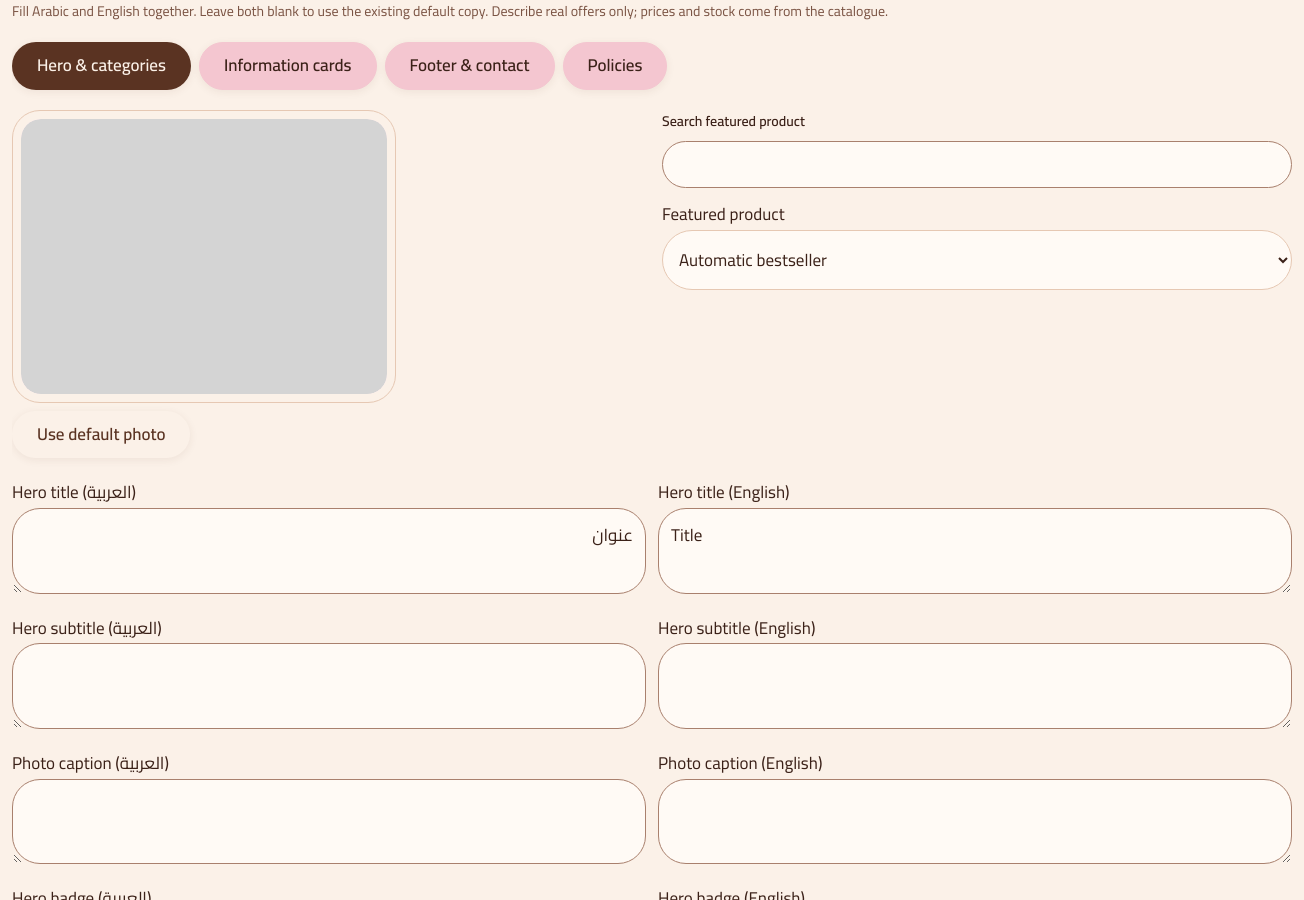
Test case: content editor › allows editing all 5 policy routes in both languages and publishing (T-5.15)
Expected: the text box labelled "Hero title (English)" is shown, [658, 508, 1292, 594]
# Switch to Policies tab
Click the button "Policies" at {"x": 615, "y": 66}, box [563, 42, 667, 90]
(page scrolled)
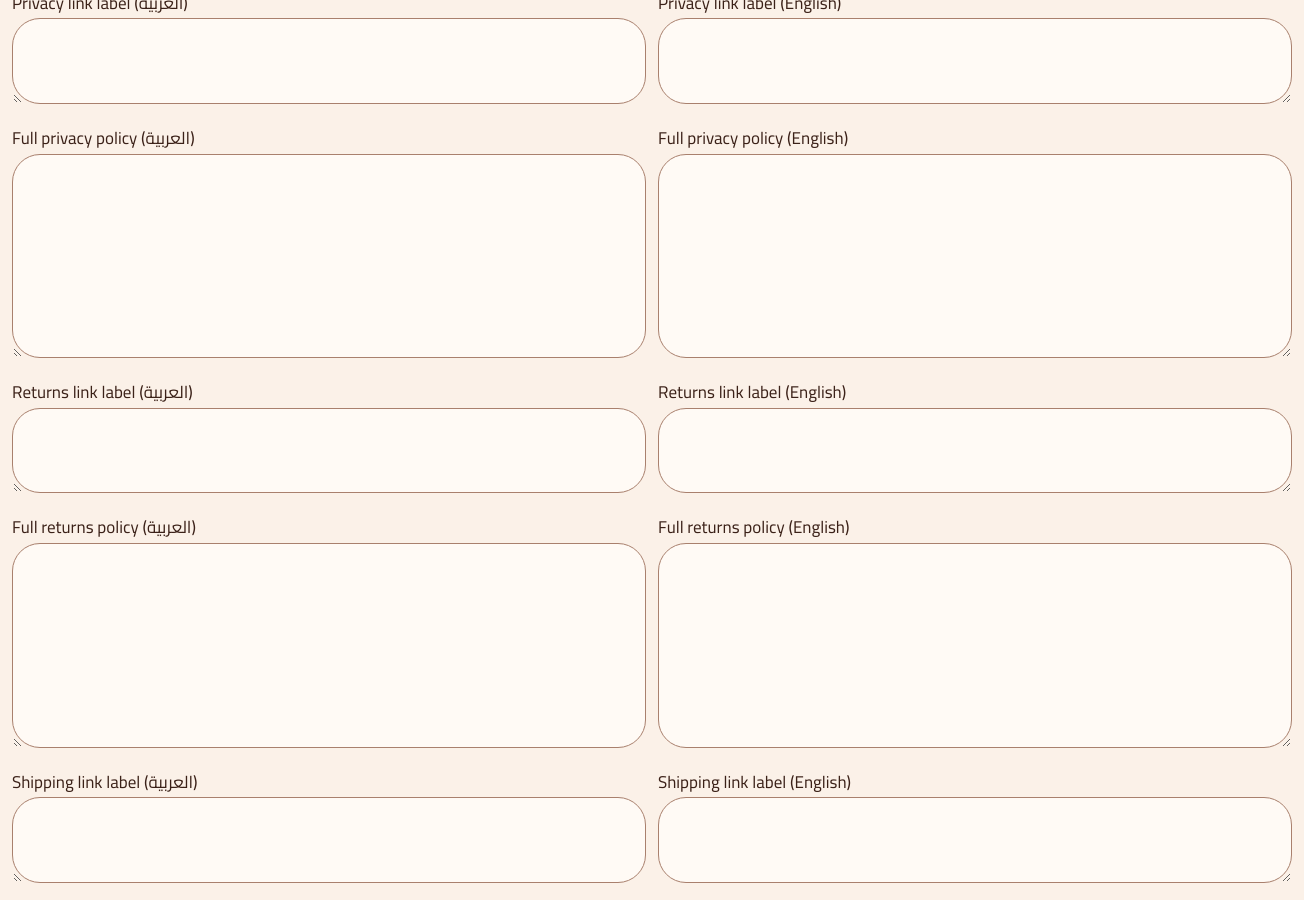
# Fill in returns policy
Type "ضوابط الاسترجاع" into the text box labelled "Returns link label (العربية)" at {"x": 329, "y": 451}, box [12, 408, 646, 493]
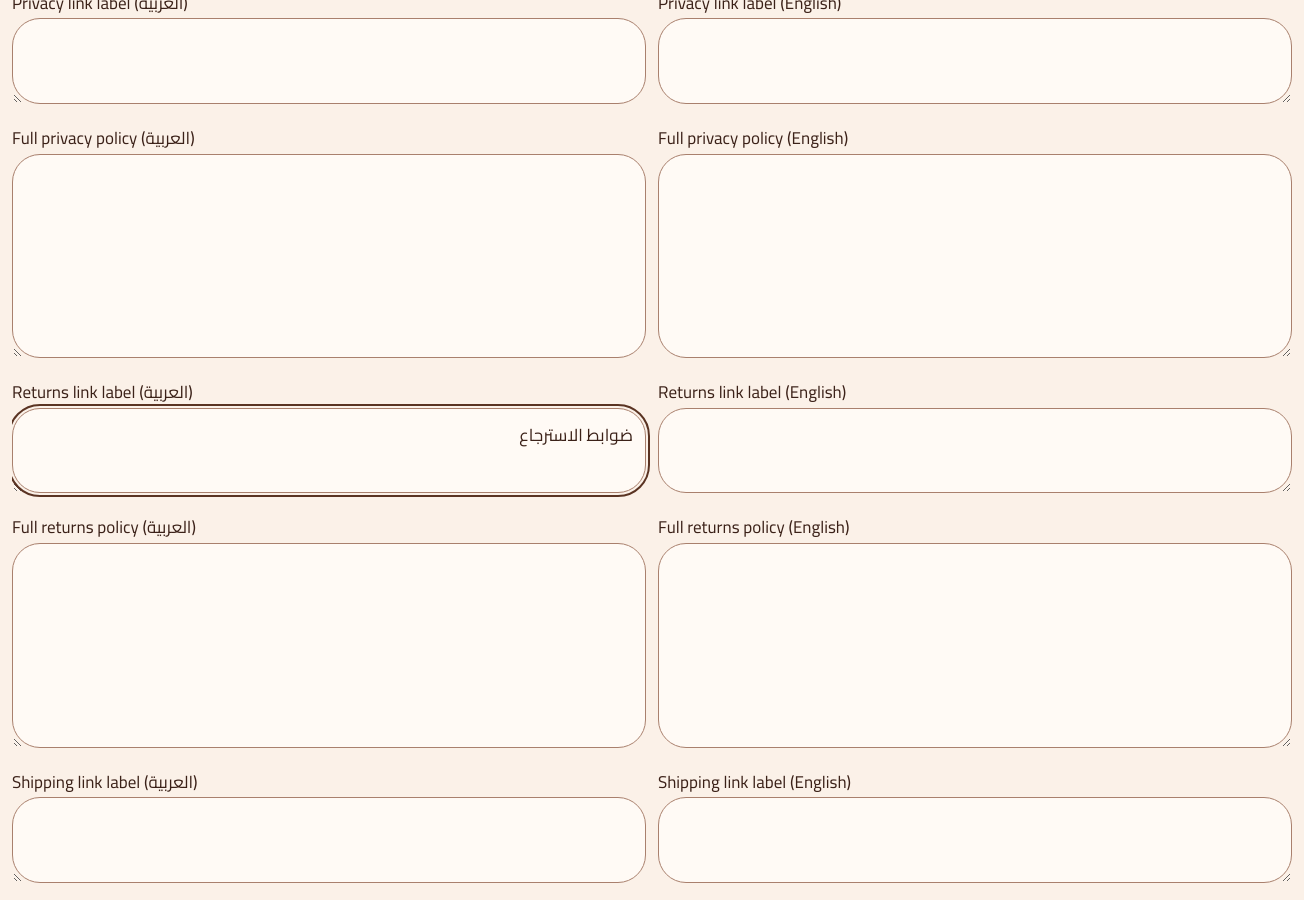
Type "Return Rules" into the text box labelled "Returns link label (English)" at {"x": 975, "y": 451}, box [658, 408, 1292, 493]
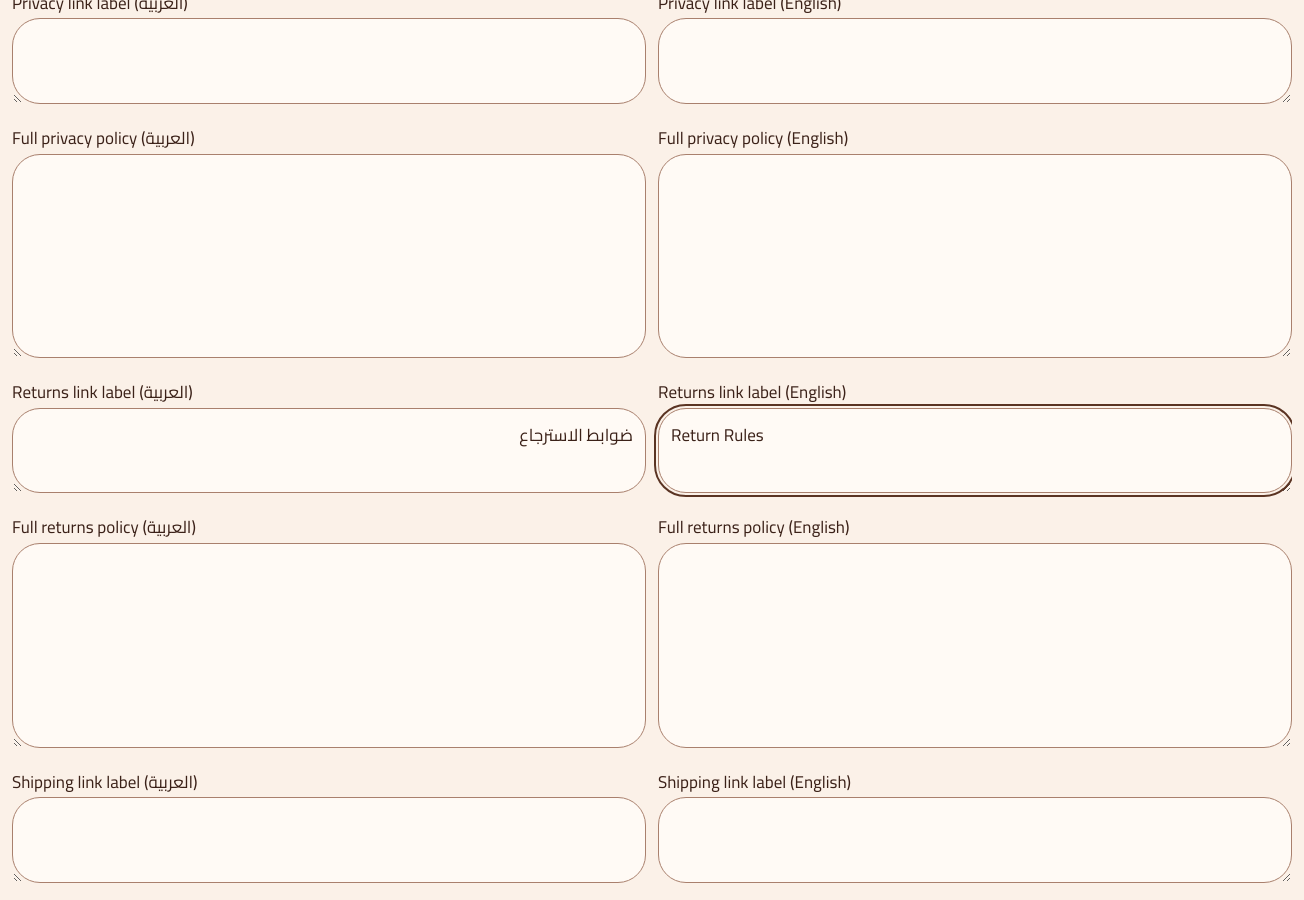
Type "نص الاسترجاع بالعربية" into the text box labelled "Full returns policy (العربية)" at {"x": 329, "y": 645}, box [12, 543, 646, 748]
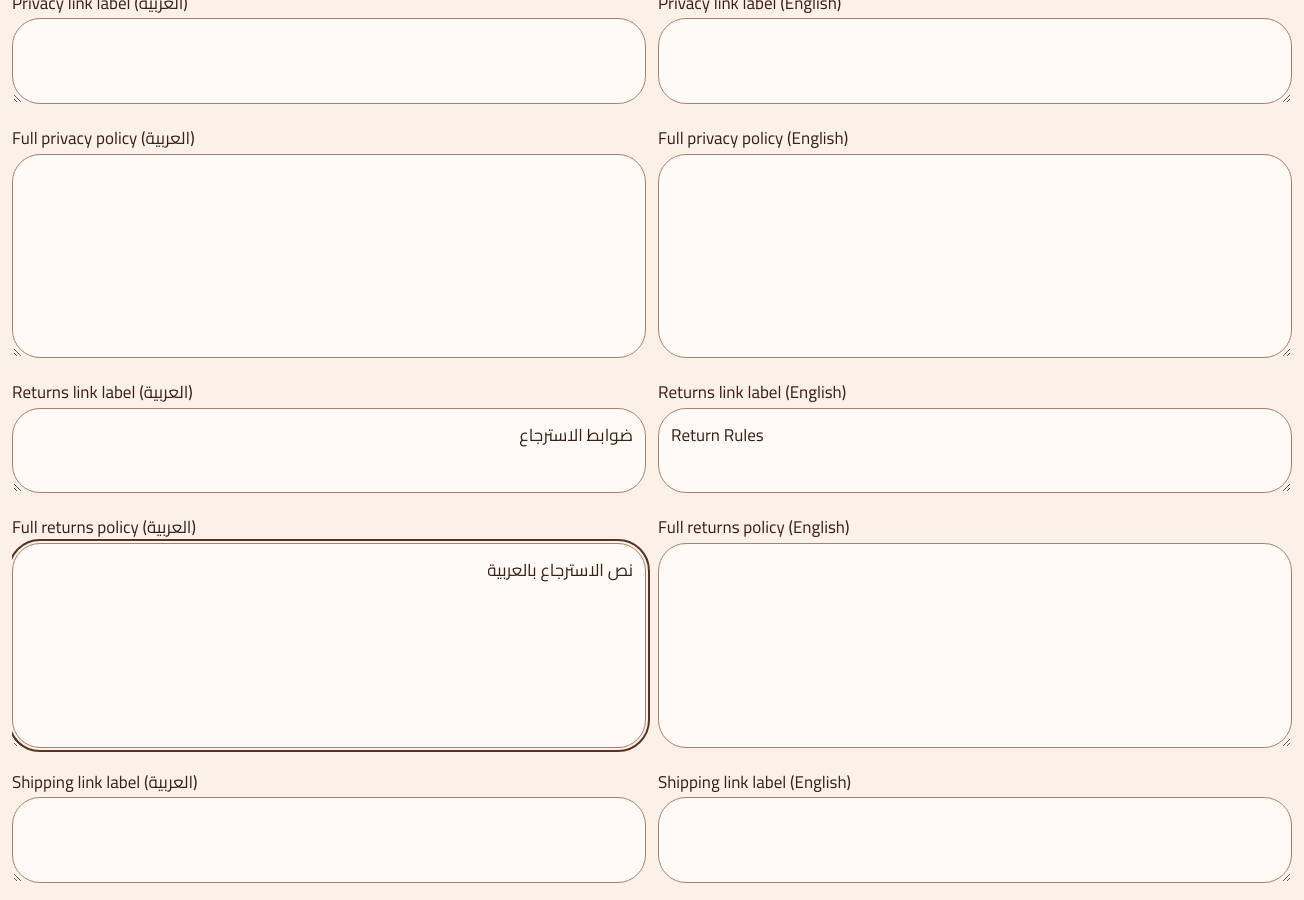
Type "English returns text" into the text box labelled "Full returns policy (English)" at {"x": 975, "y": 645}, box [658, 543, 1292, 748]
(page scrolled)
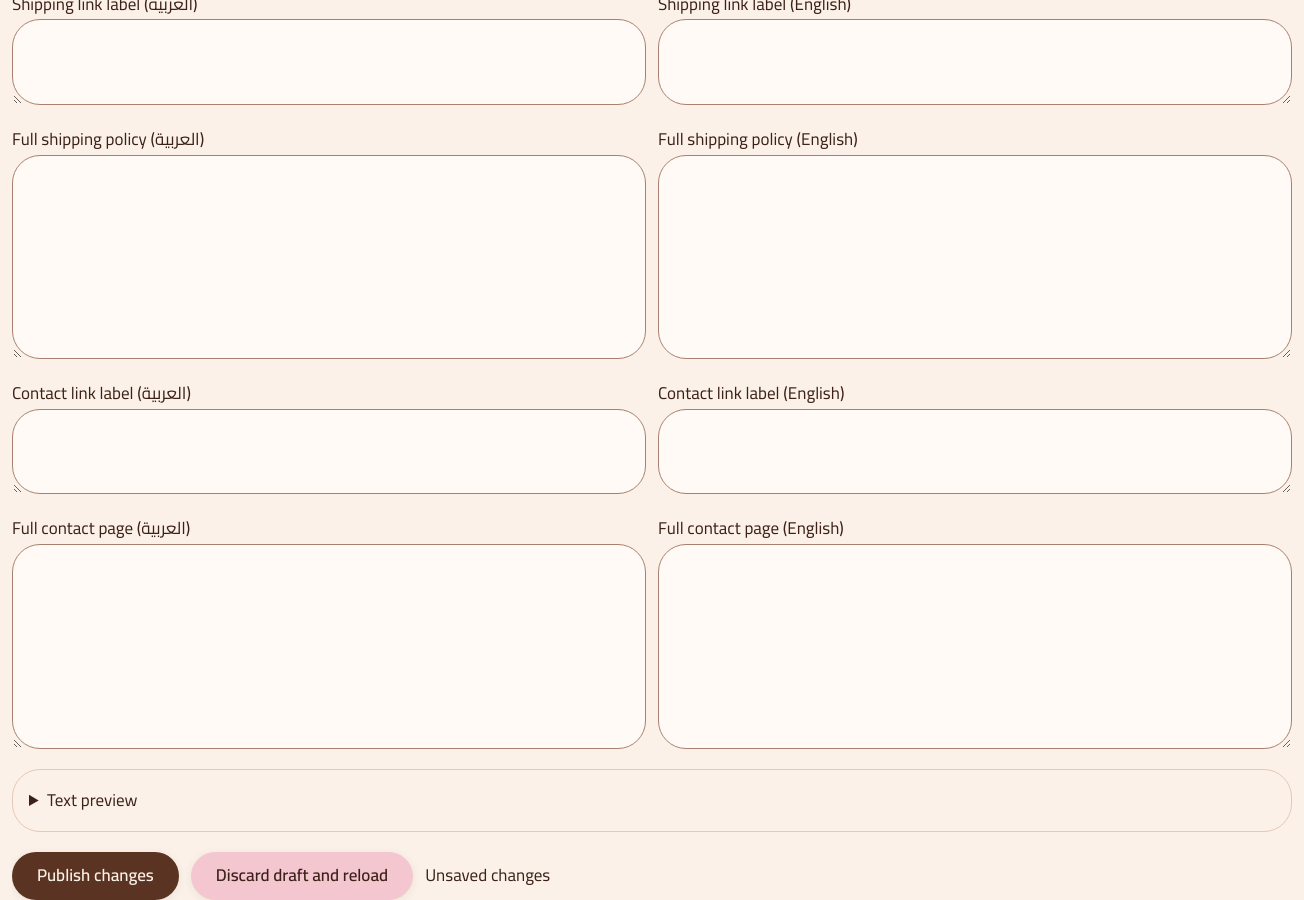
Click the button "Publish changes" at {"x": 95, "y": 876}, box [12, 852, 179, 899]
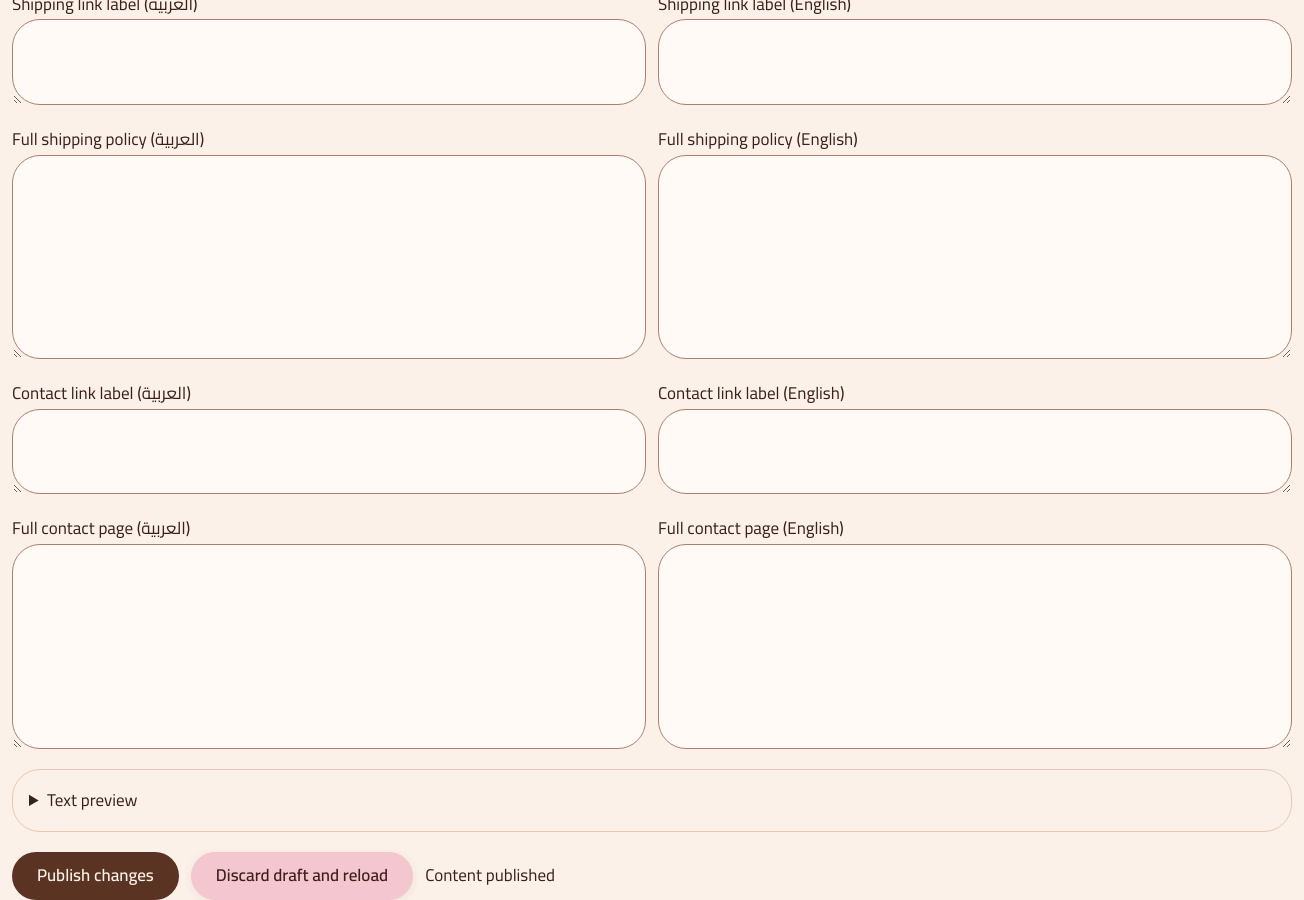
Expected: the text "Content published" is shown, [425, 861, 555, 891]
